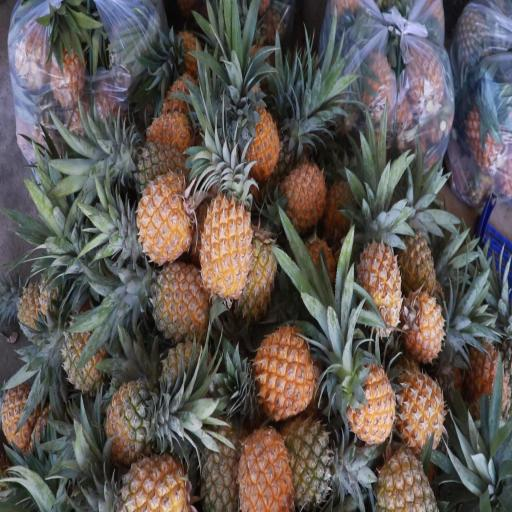------------------------------: (275, 416, 344, 512), (99, 382, 176, 468), (370, 434, 438, 512), (192, 410, 244, 511), (60, 302, 112, 397), (121, 136, 181, 182)
Pineapple - v8 v1: (248, 308, 314, 411), (201, 183, 253, 308), (141, 253, 212, 342), (133, 168, 195, 269), (353, 217, 402, 340), (339, 349, 396, 452), (233, 416, 292, 512), (390, 356, 448, 453), (233, 206, 279, 320), (110, 448, 191, 512), (273, 149, 327, 232), (396, 280, 446, 362), (396, 201, 440, 294), (240, 96, 283, 180)
